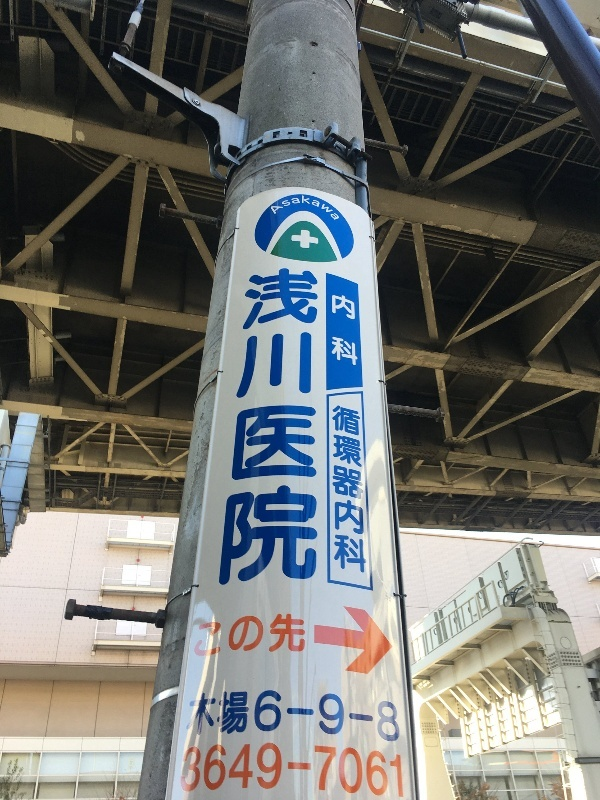text: (257, 267, 272, 586), (273, 267, 288, 586), (289, 267, 304, 586), (305, 267, 320, 586), (248, 267, 256, 586), (337, 406, 352, 574), (353, 406, 367, 574), (337, 293, 352, 366), (193, 742, 208, 798), (209, 742, 224, 798), (225, 742, 240, 798), (241, 742, 256, 798), (257, 742, 272, 798), (273, 742, 288, 798), (289, 742, 304, 798), (305, 742, 320, 798), (321, 742, 336, 798), (337, 742, 352, 798), (353, 742, 368, 798), (369, 742, 384, 798), (385, 742, 400, 798), (385, 692, 401, 744), (193, 692, 208, 744), (209, 692, 224, 744), (225, 692, 240, 744), (241, 692, 256, 744), (257, 692, 272, 744), (273, 692, 288, 744), (289, 692, 304, 744), (305, 692, 320, 744), (321, 692, 336, 744), (337, 692, 352, 744), (353, 692, 368, 744), (369, 692, 384, 744), (209, 613, 224, 658), (225, 613, 240, 658), (241, 613, 256, 658), (257, 613, 272, 658), (273, 613, 288, 658), (289, 613, 304, 658), (332, 406, 336, 574), (273, 194, 288, 222), (289, 194, 304, 222), (305, 194, 320, 222), (321, 194, 336, 222), (185, 742, 192, 798), (353, 293, 358, 366), (201, 613, 208, 658), (332, 293, 336, 366), (337, 194, 343, 222), (268, 194, 272, 222), (401, 742, 403, 798), (305, 613, 306, 658)
